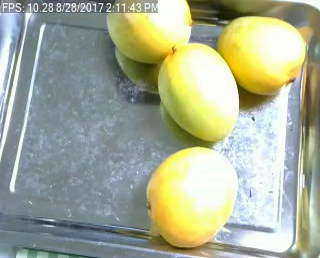Mango: (145, 146, 238, 247), (157, 44, 239, 138), (217, 16, 306, 96), (106, 1, 192, 63)
